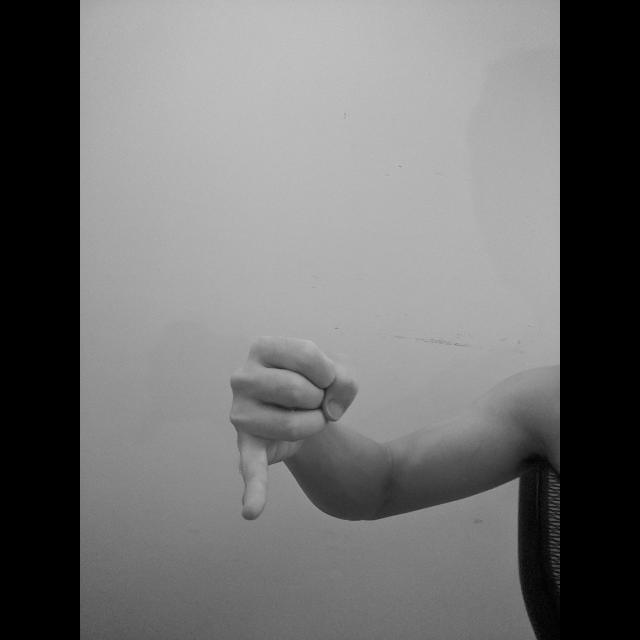J: (223, 328, 363, 524)
